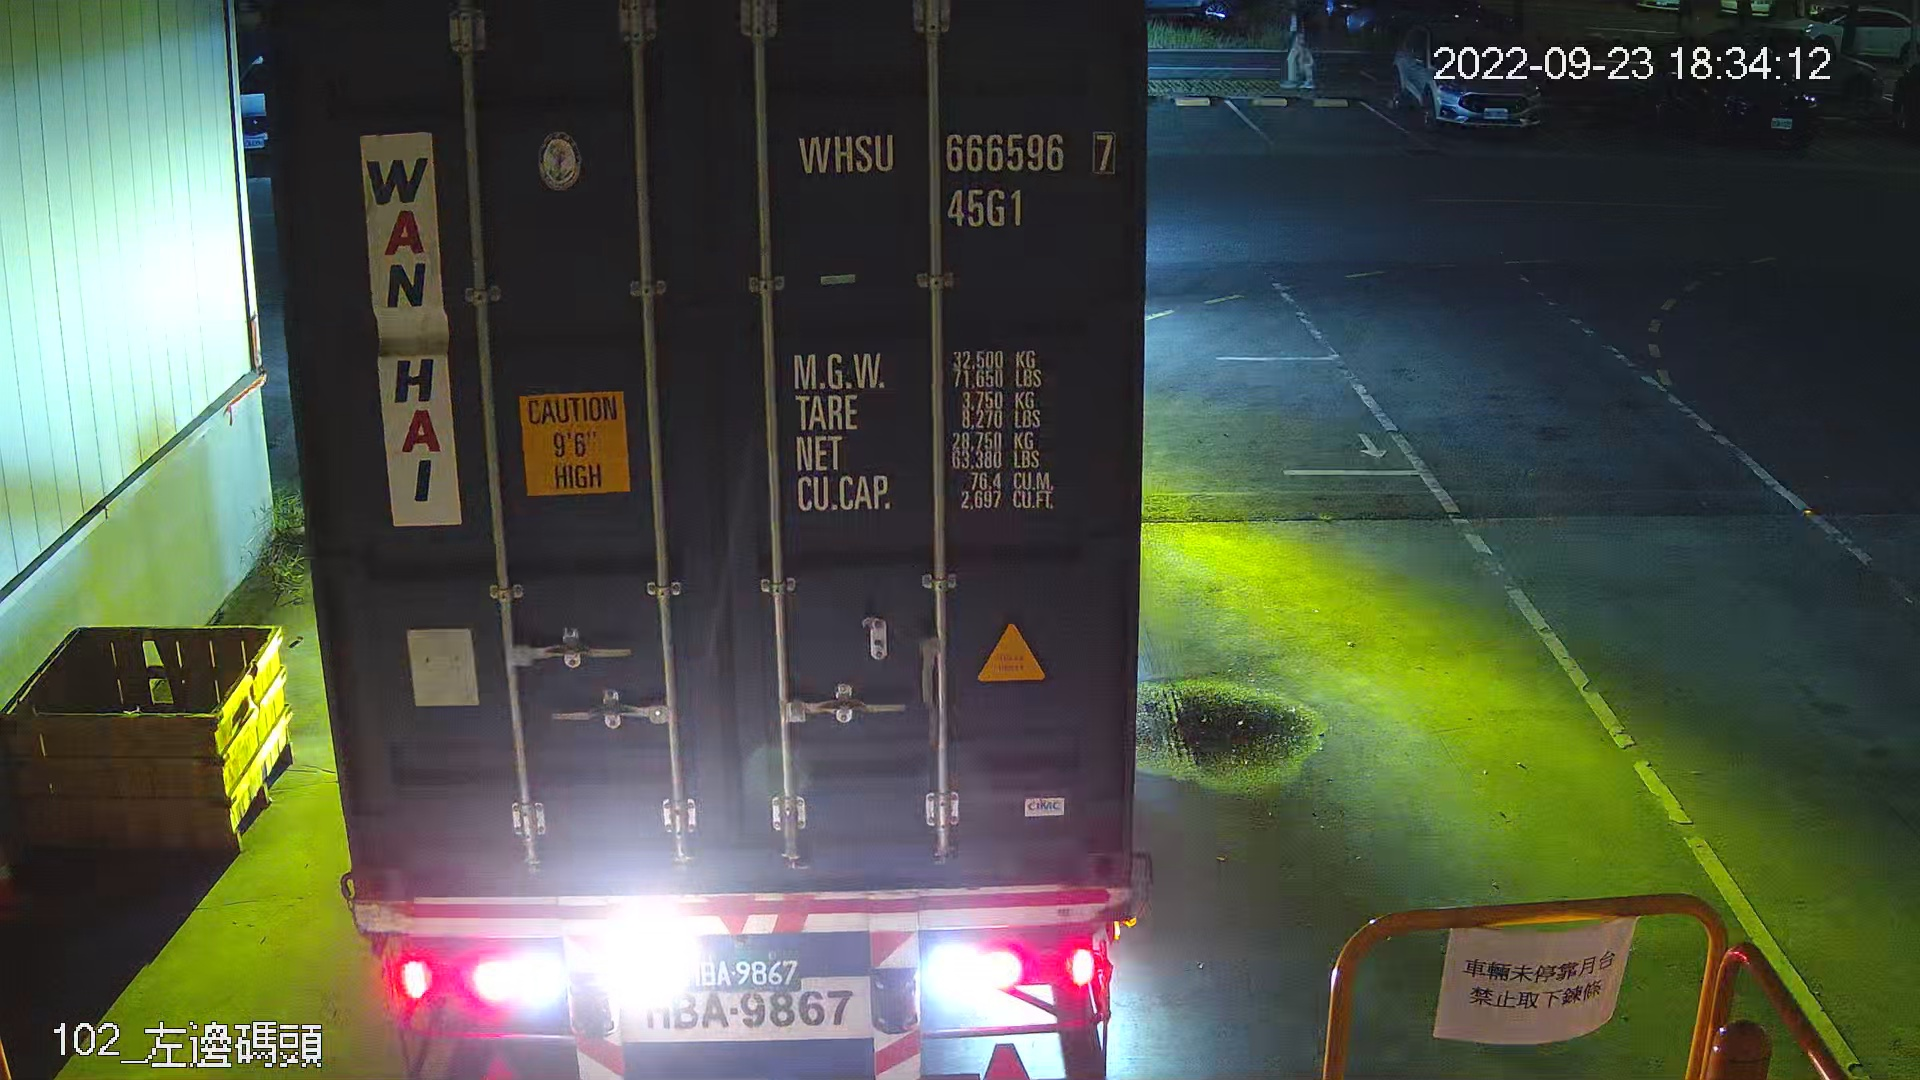container: (787, 119, 1126, 241)
